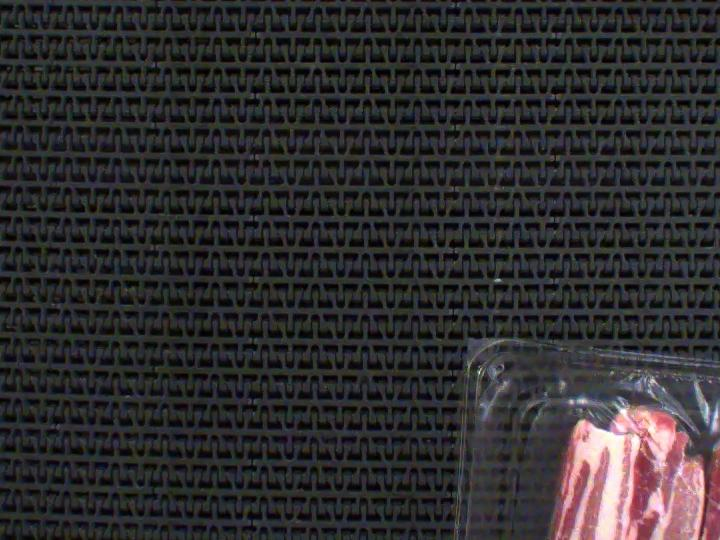unsealed: (492, 345, 720, 540)
